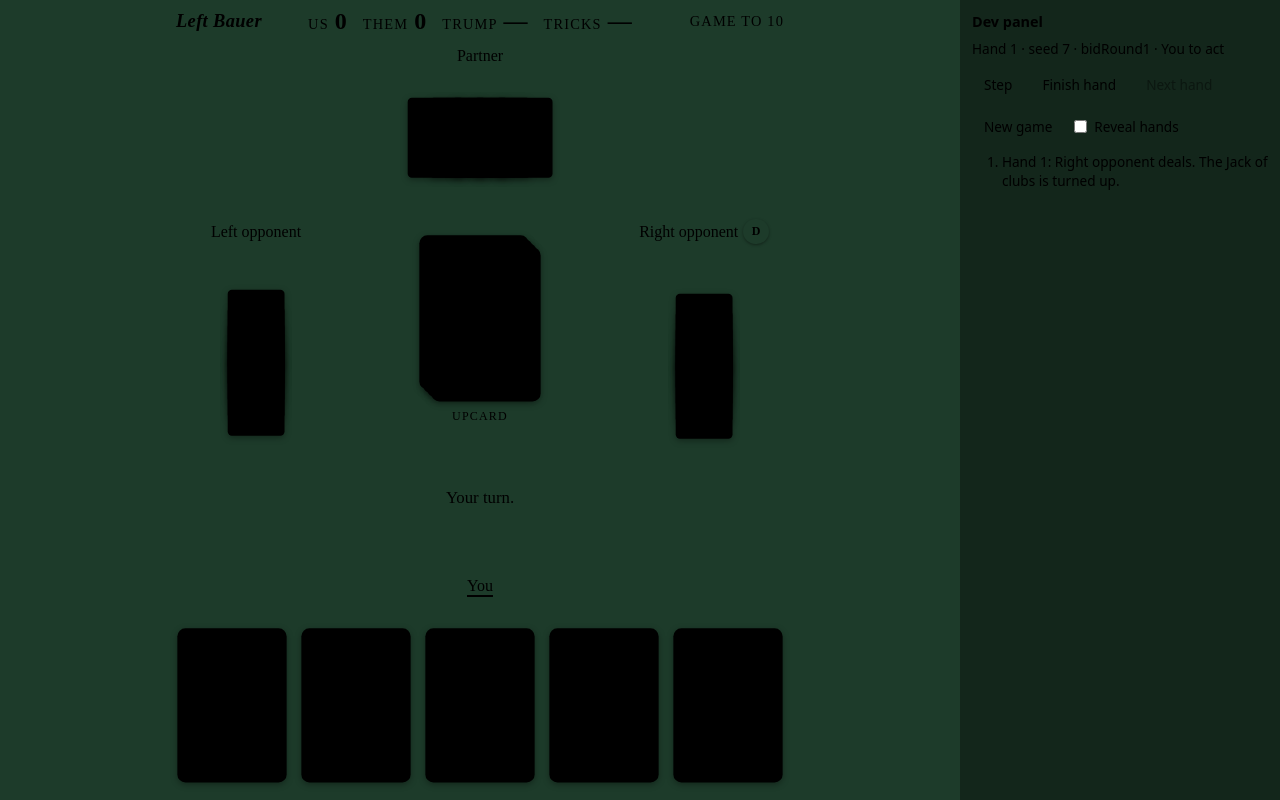
Test case: DevApp (?dev) › steps the engine one action at a time and logs it
This screenshot has width=1280, height=800.
Expected: the number of list items is 1, [1002,152,1268,190]
Click the button "Step".
click(998, 84)  # box [972,66,1024,102]
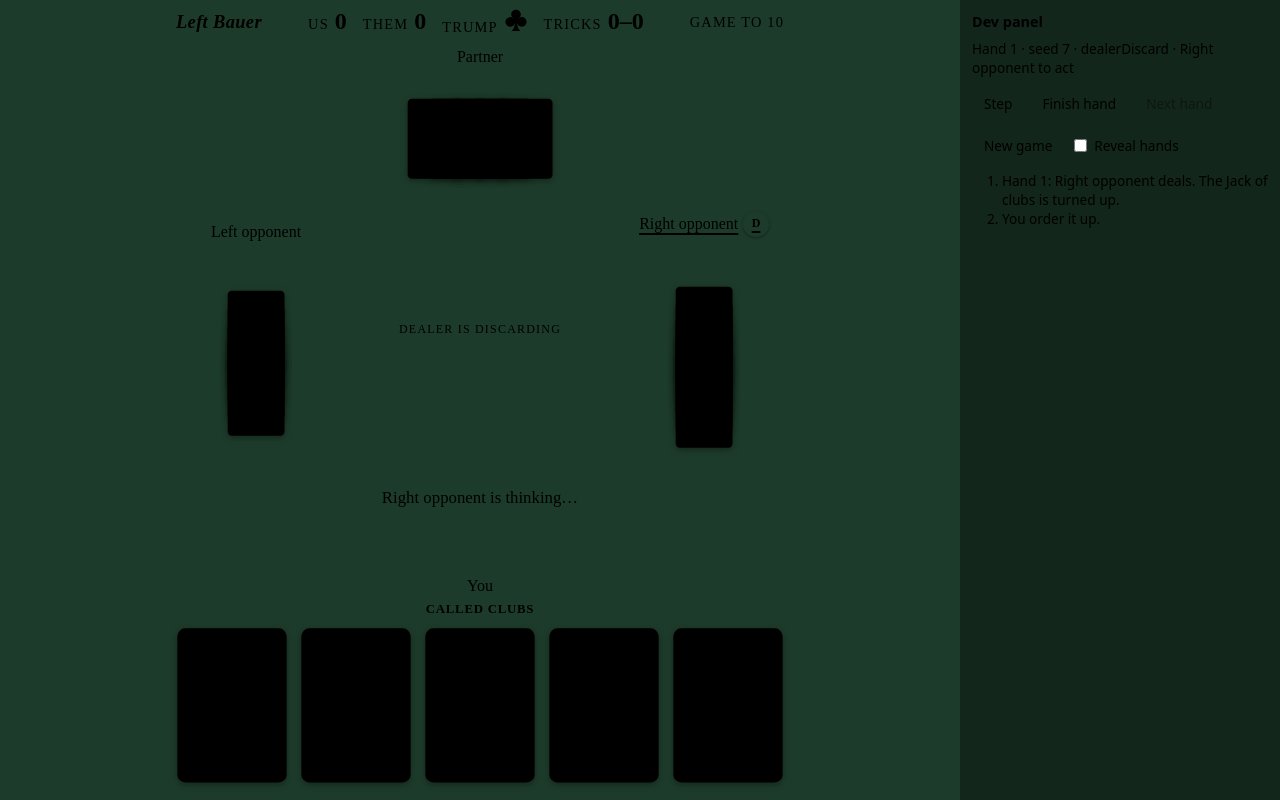
Expected: the message "Hand 1 · seed 7 · bidRound1 · You to act" no longer shows "You to act"
